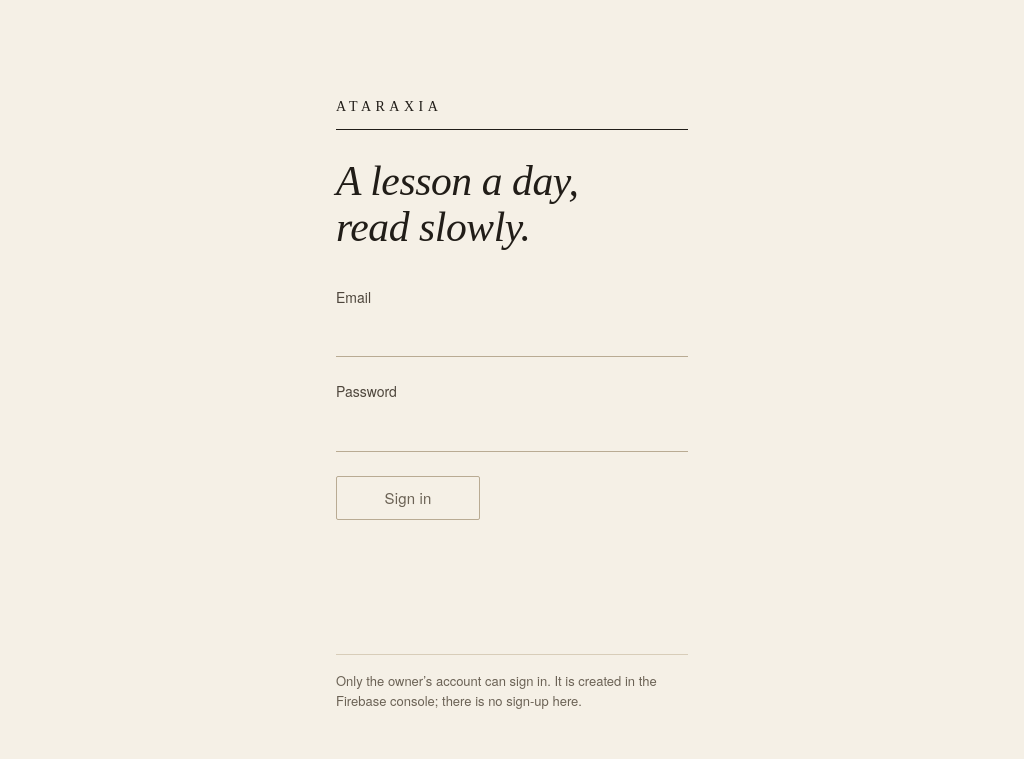
Test: Sign-in › signs in and sends the ID token with every request
The image size is (1024, 759).
Type "owner@example.com" into the field labelled "Email" at [512, 336], box [336,314,688,358]
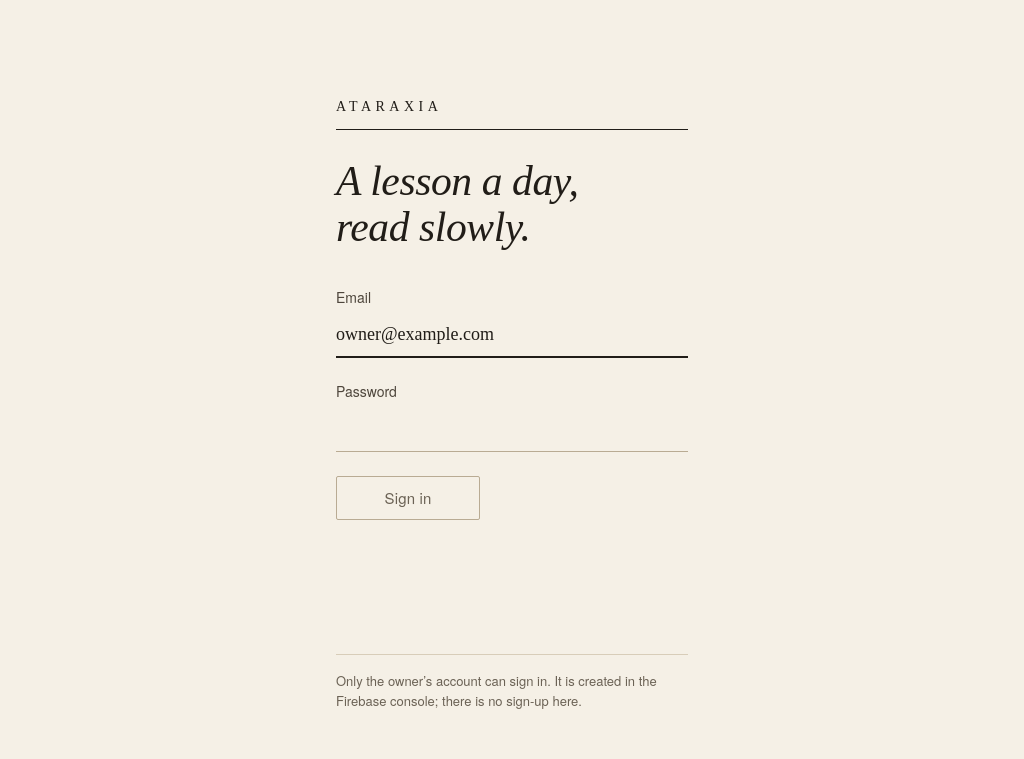
Type "correct horse" into the password field labelled "Password" at [512, 430], box [336,408,688,452]
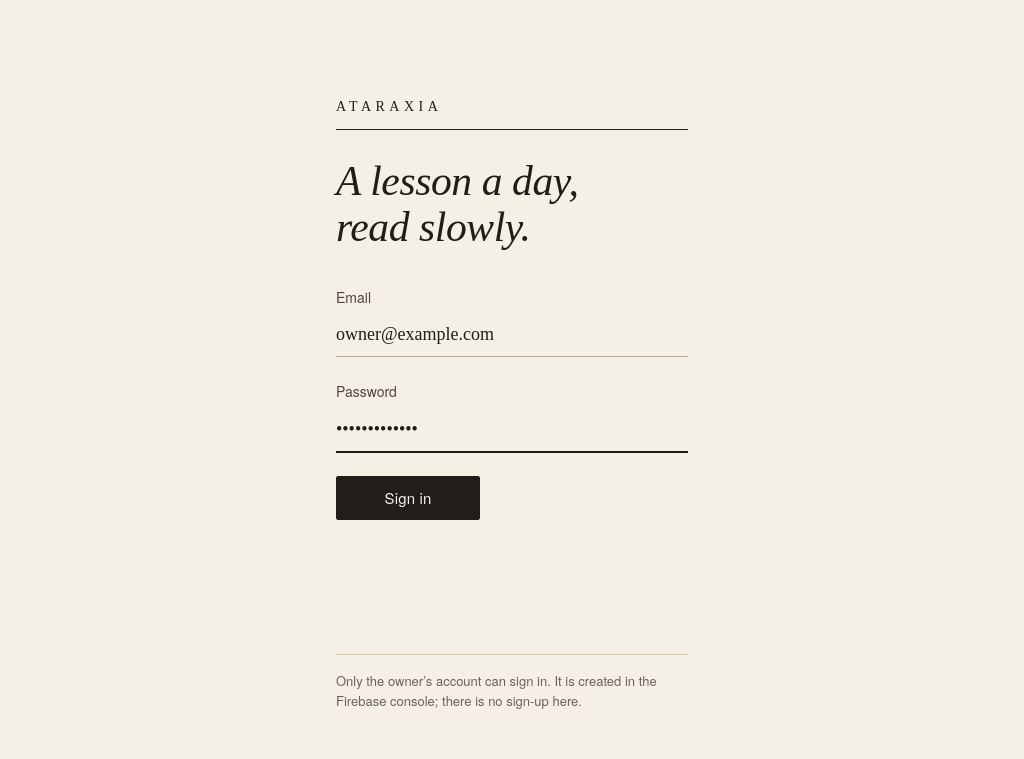
Click the button "Sign in" at [408, 498], box [336,476,480,520]
(page scrolled)
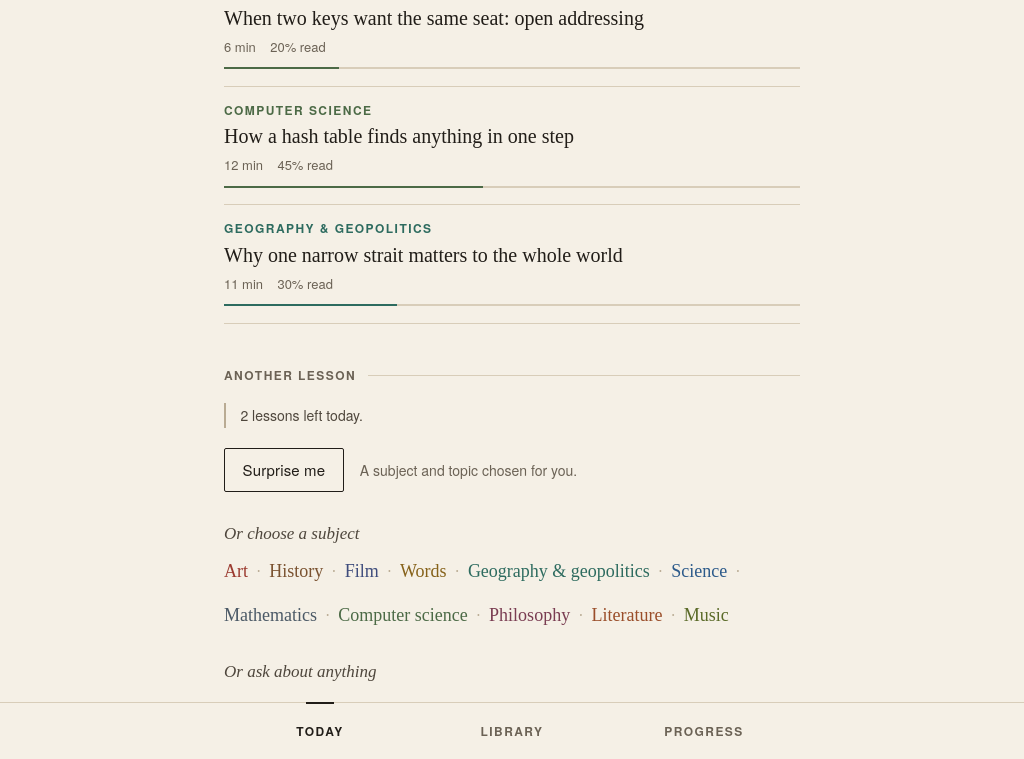
Now the heading "Another lesson" is shown, box [224,366,356,384]
